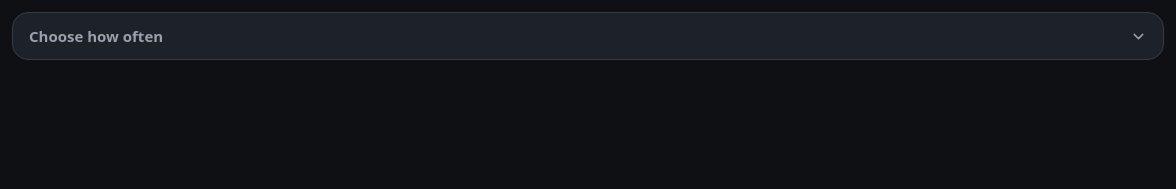
Test case: Select › shows the placeholder, then the chosen option
The width and height of the screenshot is (1176, 189).
Click the dropdown labelled "how often": (96, 36) [12,12,1164,60]
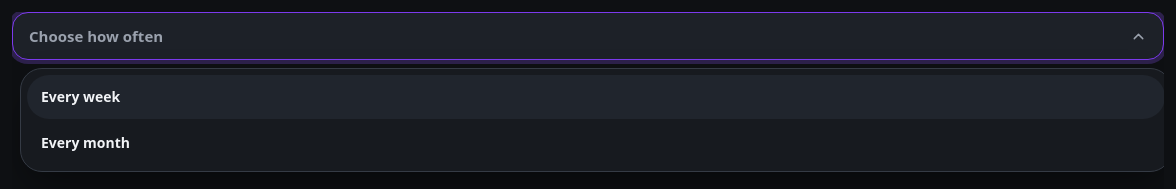
Click the option "Every month": (85, 142) [41,133,130,152]
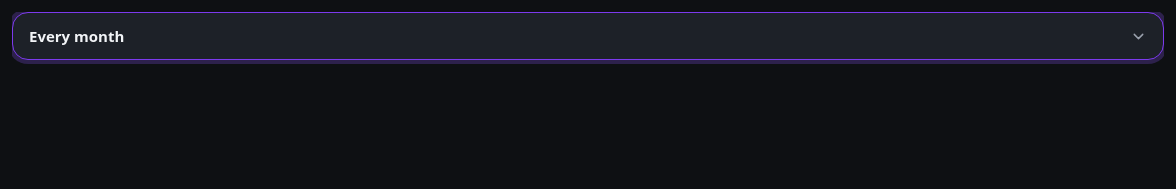
Expected: the dropdown named "How often" reads "Every month", [12,12,1164,60]
